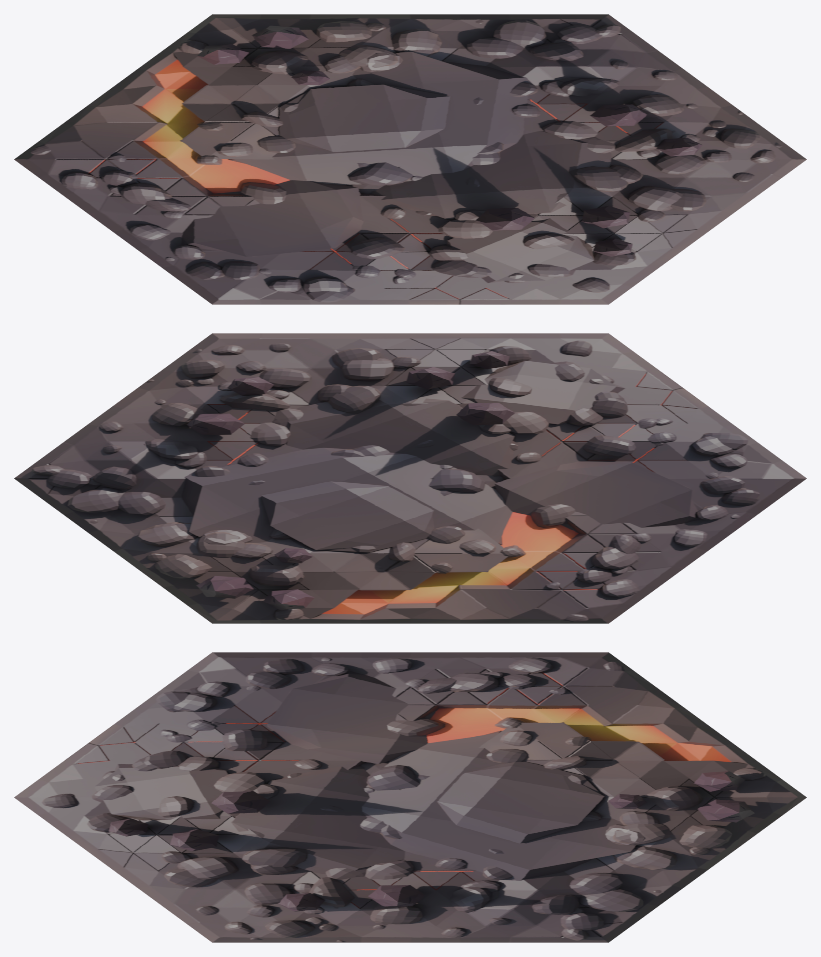
The model's file is scorched.glb.
3 renders of one model, top to bottom at view 1: azimuth 30°, elevation 25°; view 2: azimuth 150°, elevation 25°; view 3: azimuth 270°, elevation 25°, orthographic.
Visible parts, largest first — view 1: Deciduousforest_flat; view 2: Deciduousforest_flat; view 3: Deciduousforest_flat.
Boxes of the visible parts, <box> form: Deciduousforest_flat: <box>14,14,806,304</box>; Deciduousforest_flat: <box>14,333,806,623</box>; Deciduousforest_flat: <box>14,652,806,942</box>.
Bounding box in the file's own units: 1.73 × 4.47e-08 × 2.
Materials: 1 (1 with a texture image).
